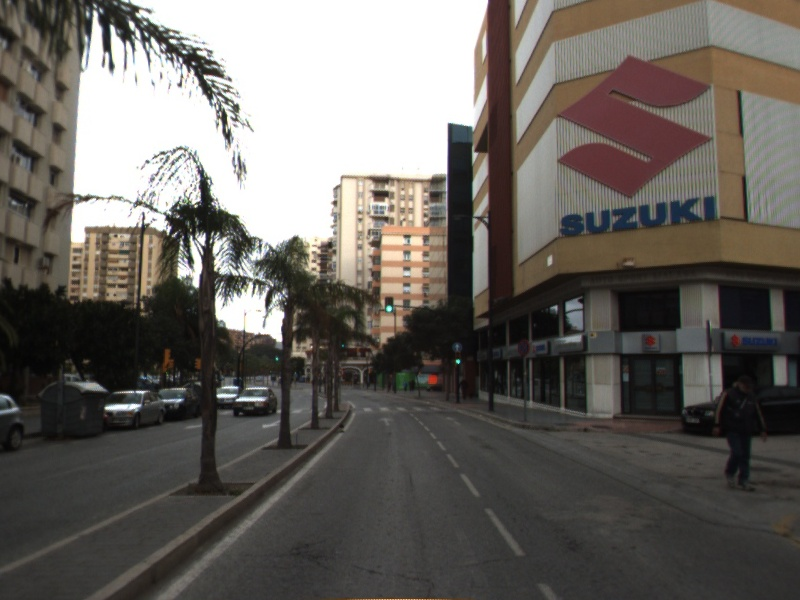STRAIGHT: (375, 414, 398, 428), (443, 414, 465, 428)
